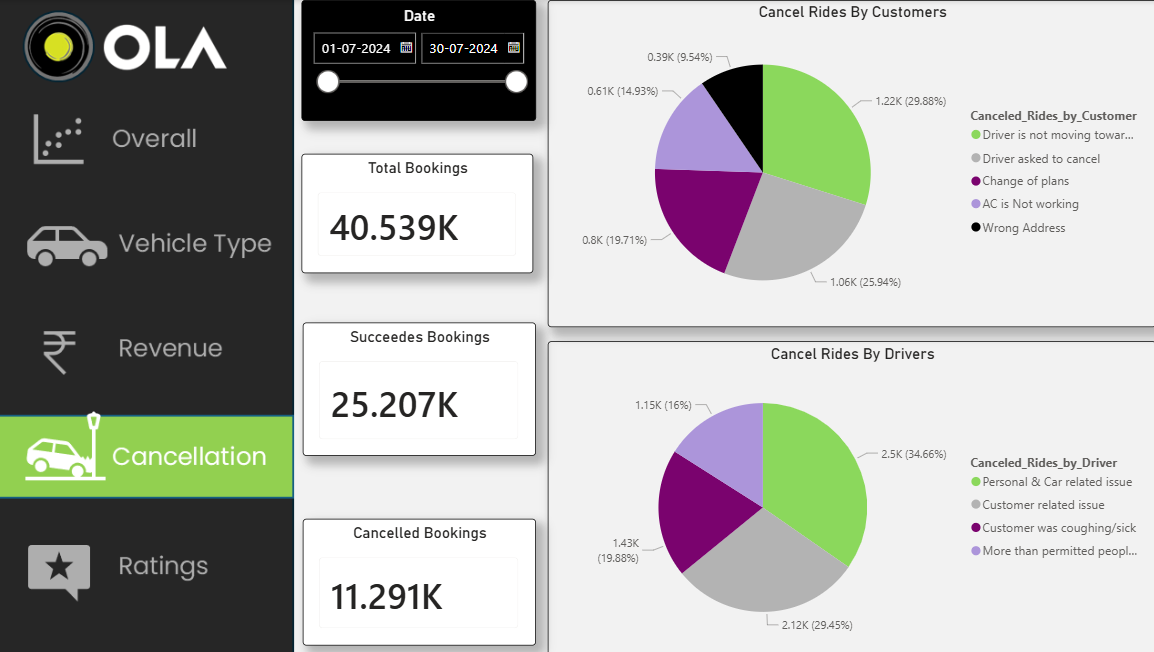

Layout of this report page (visuals, bound fields, positions):
{"tool":"powerbi","page":{"name":"Cancellation","canvas":[1280,720],"ordinal":3},"visuals":[{"type":"actionButton","box":[0,227.6,323.2,88.3],"z":0},{"type":"actionButton","box":[1,345,323.2,88.3],"z":1000},{"type":"actionButton","box":[1,580.9,323.2,88.3],"z":2000},{"type":"actionButton","box":[1,111.2,323.2,88.3],"z":3000},{"type":"pieChart","title":"Cancel Rides By Customers","fields":{"Category":["July.Canceled_Rides_by_Customer"],"Y":["CountNonNull(July.Canceled_Rides_by_Customer)"]},"box":[602.4,0,668.3,359.5],"z":4000},{"type":"pieChart","title":"Cancel Rides By Drivers","fields":{"Category":["July.Canceled_Rides_by_Driver"],"Y":["CountNonNull(July.Canceled_Rides_by_Driver)"]},"box":[602.4,374.6,668.3,345.8],"z":5000},{"type":"slicer","title":"Date","fields":{"Values":["July.Date"]},"box":[332.1,0,258,133.1],"z":6000},{"type":"cardVisual","title":"Total Bookings","fields":{"Data":["CountNonNull(July.Booking_ID)"]},"box":[331.4,168.9,254.1,131],"z":7000},{"type":"cardVisual","title":"Succeedes Bookings","fields":{"Data":["CountNonNull(July.Booking_ID)"]},"box":[333,353.5,255.7,146.8],"z":8000},{"type":"cardVisual","title":"Cancelled  Bookings","fields":{"Data":["CountNonNull(July.Booking_ID)"]},"box":[333,569.8,255.7,138.9],"z":9000}]}

Visuals, with their boxes in screenshot pixels (x1, y1, x2, y2), scaled from the page's 1280x720 canvas onto the 1154x652 screenshot:
actionButton: {"x1": 0, "y1": 206, "x2": 291, "y2": 286}
actionButton: {"x1": 1, "y1": 312, "x2": 292, "y2": 392}
actionButton: {"x1": 1, "y1": 526, "x2": 292, "y2": 606}
actionButton: {"x1": 1, "y1": 101, "x2": 292, "y2": 181}
"Cancel Rides By Customers" pieChart: {"x1": 543, "y1": 0, "x2": 1146, "y2": 326}
"Cancel Rides By Drivers" pieChart: {"x1": 543, "y1": 339, "x2": 1146, "y2": 651}
"Date" slicer: {"x1": 299, "y1": 0, "x2": 532, "y2": 121}
"Total Bookings" cardVisual: {"x1": 299, "y1": 153, "x2": 528, "y2": 272}
"Succeedes Bookings" cardVisual: {"x1": 300, "y1": 320, "x2": 531, "y2": 453}
"Cancelled  Bookings" cardVisual: {"x1": 300, "y1": 516, "x2": 531, "y2": 642}
